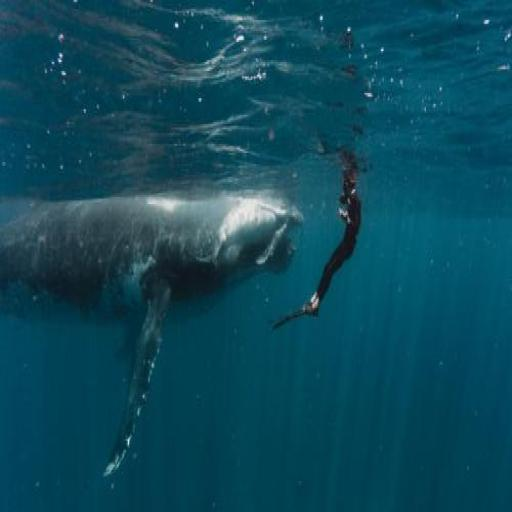swimming: (225, 105, 414, 363)
